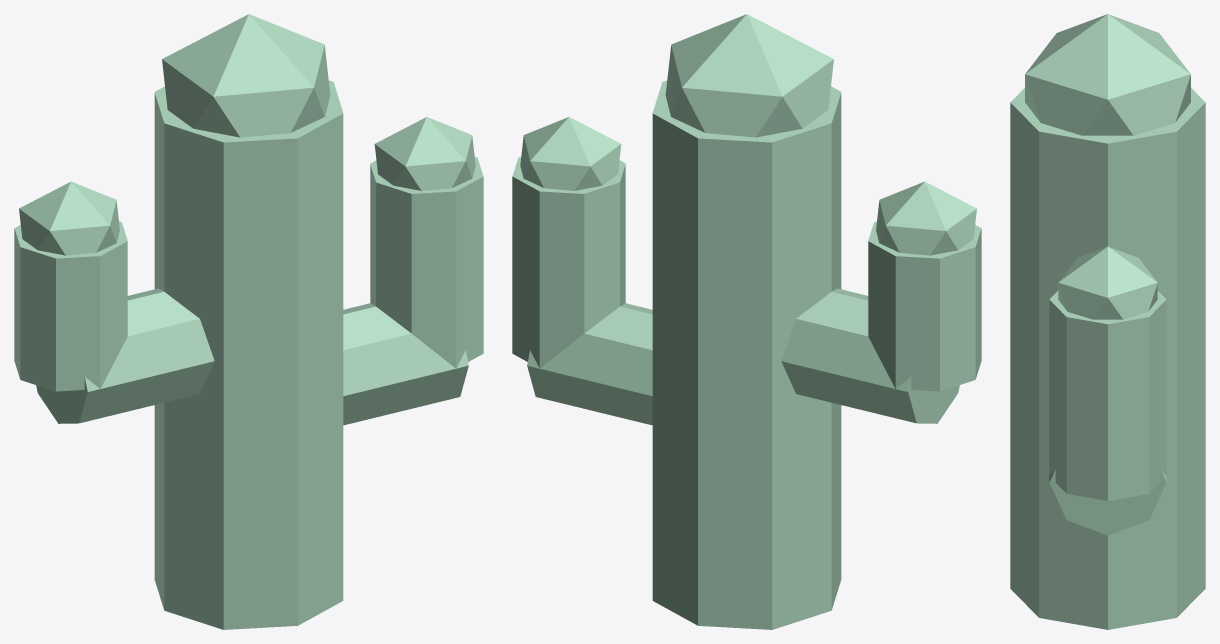
Rendered from kaktus.glb.
3 renders of one model, left to right at view 1: azimuth 30°, elevation 25°; view 2: azimuth 150°, elevation 25°; view 3: azimuth 270°, elevation 25°, orthographic.
Visible parts, largest first — view 1: kaktus; view 2: kaktus; view 3: kaktus.
Part boxes in pixels (<box>): kaktus: <box>14,14,483,629</box>; kaktus: <box>512,14,981,629</box>; kaktus: <box>1010,14,1205,629</box>.
Size of the model in its own units: 1.08 by 1.3 by 0.4.
